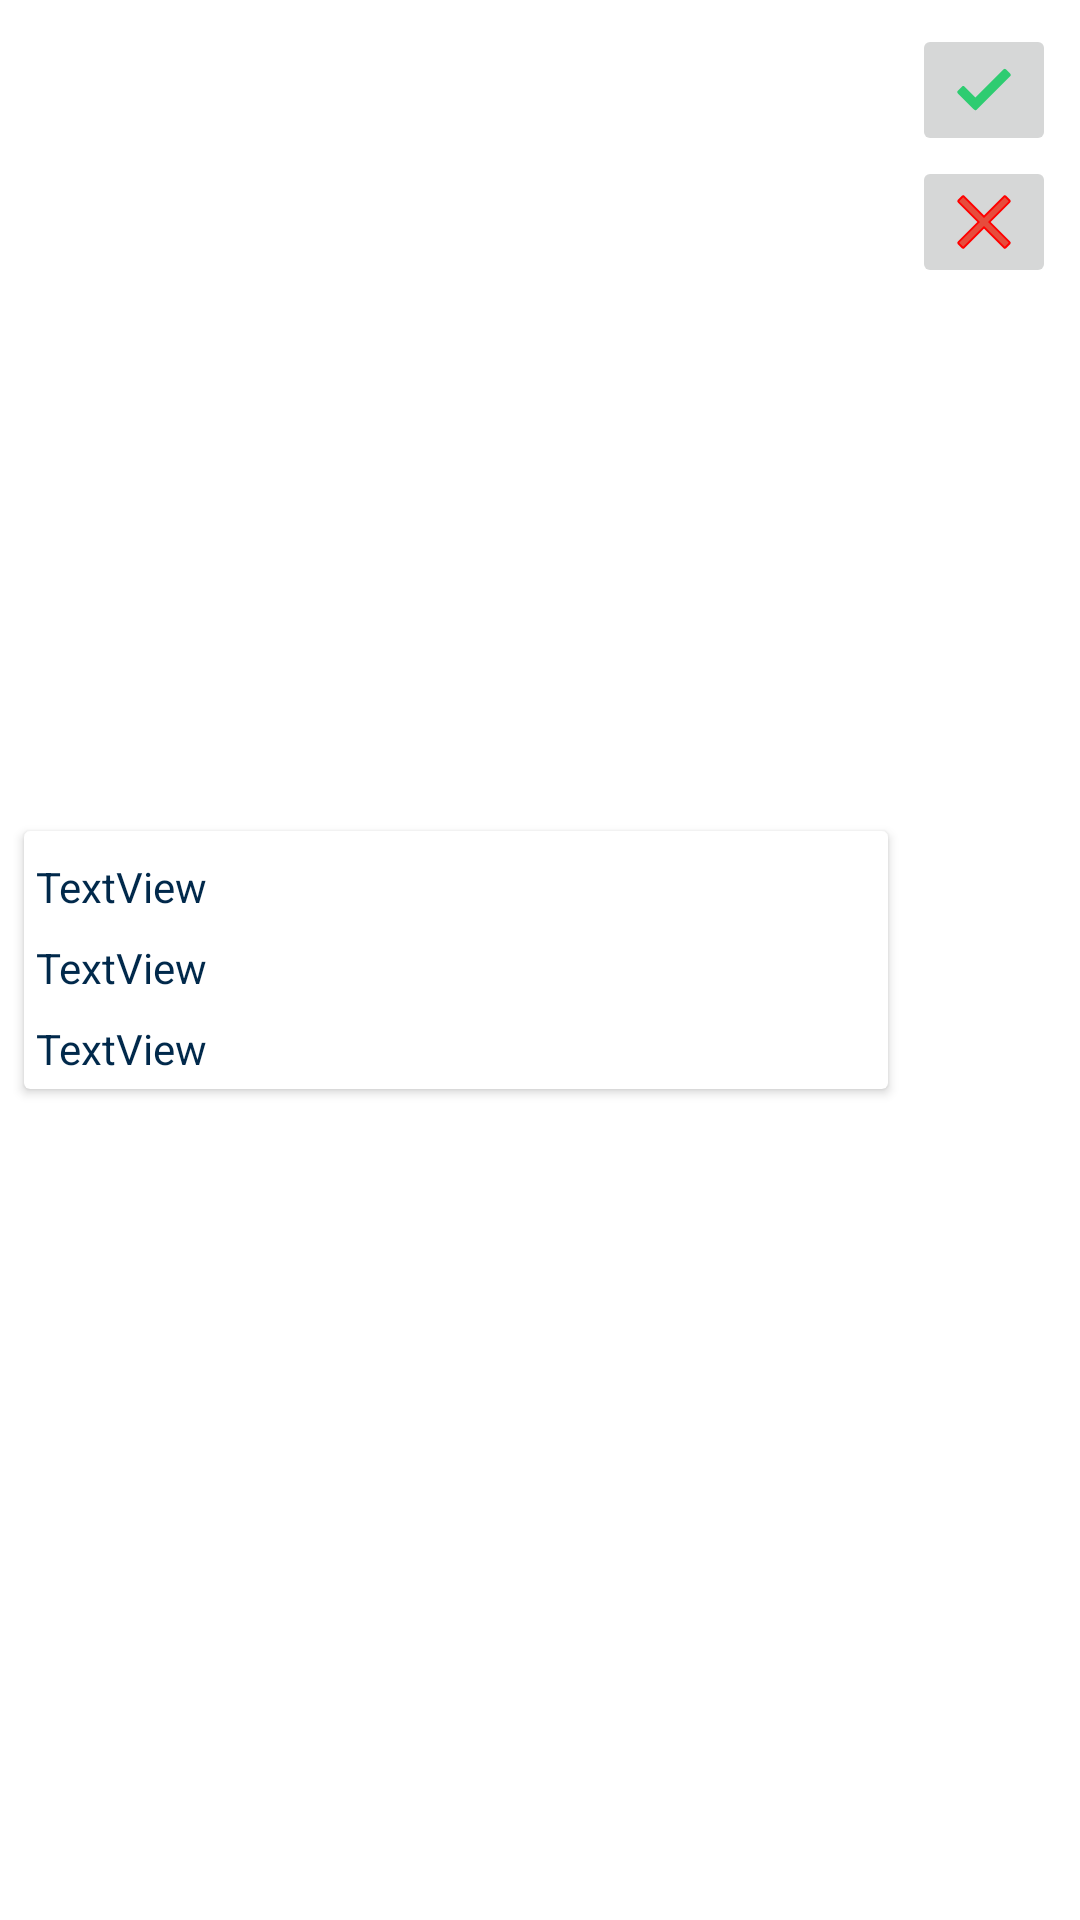

Icon click points for this 1080×1920 phone screenshot, format point (x, y):
cross: point (984, 222)
tickmark: point (984, 90)
